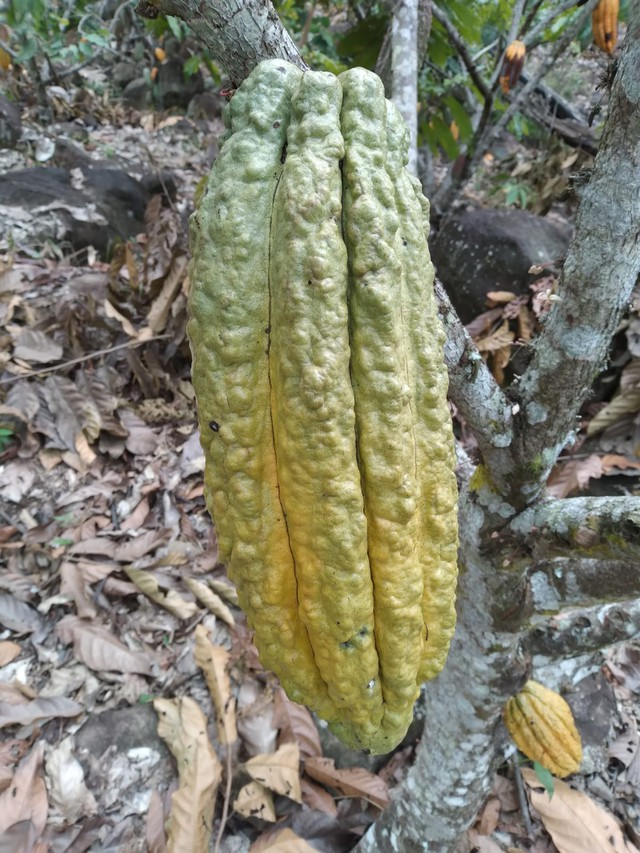Health: (180, 54, 467, 761)
